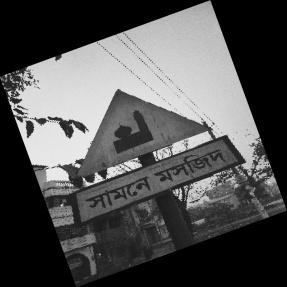Mosque in front: (67, 89, 244, 224)
